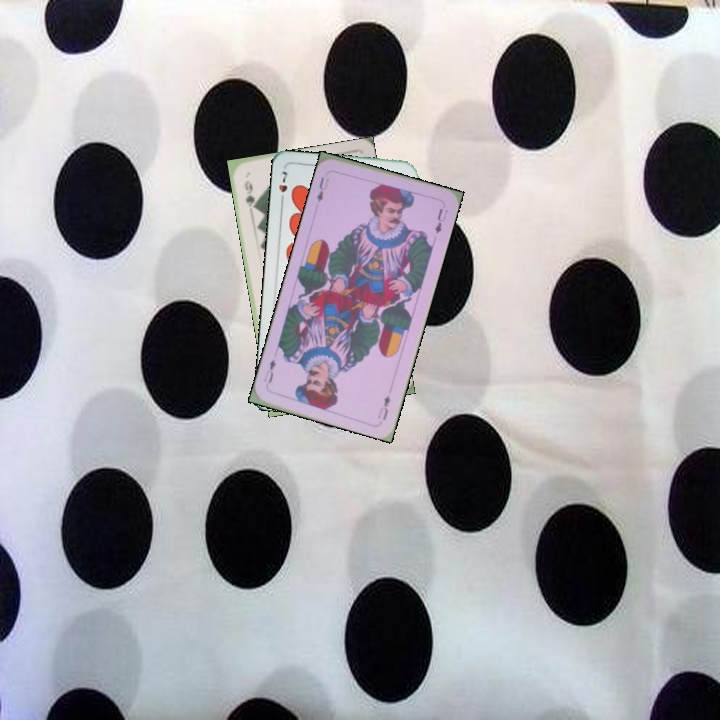EU: (373, 391, 393, 422), (313, 173, 332, 205)
G9: (241, 176, 258, 212)
H7: (275, 167, 290, 206)
